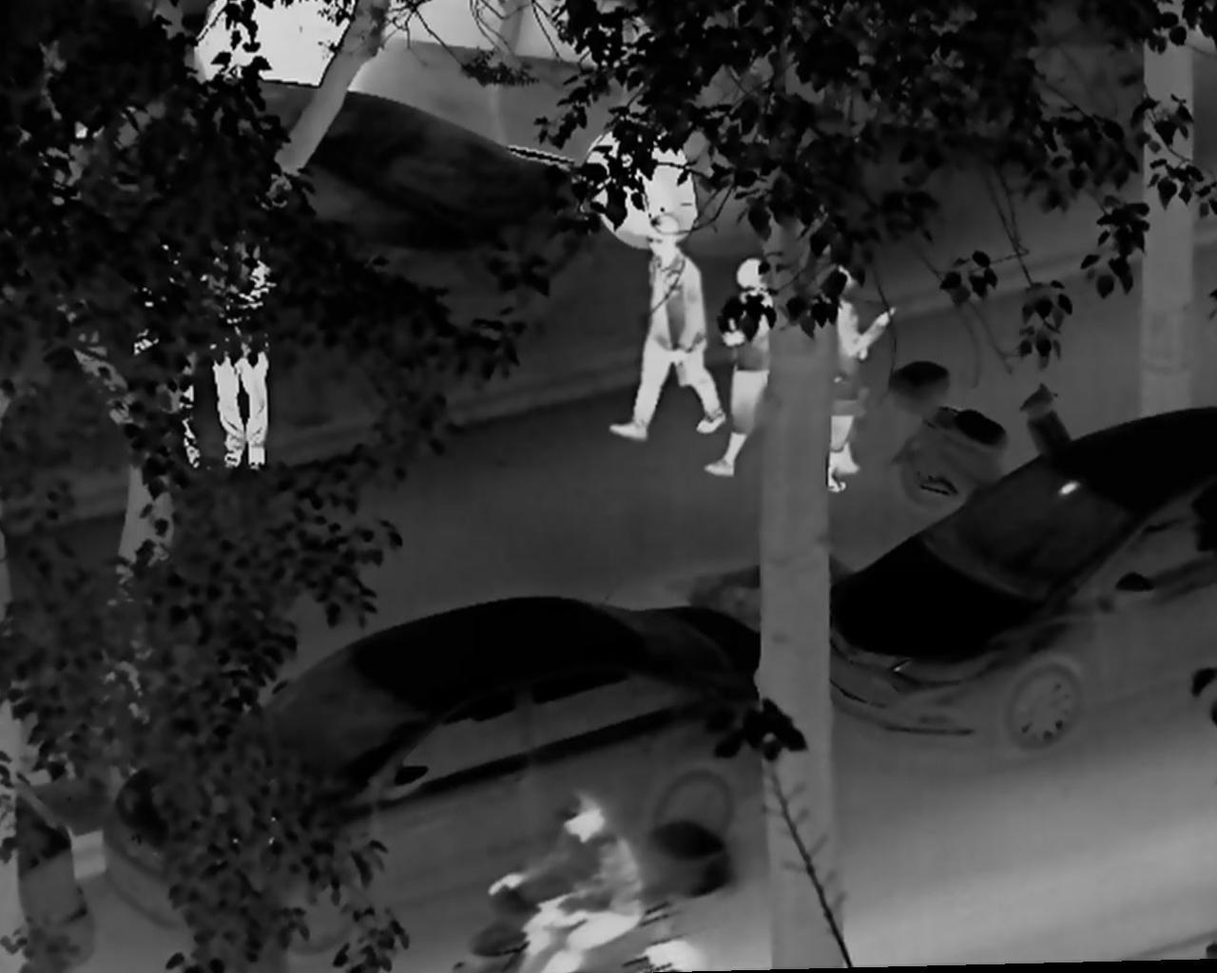person: (485, 792, 649, 973), (608, 207, 724, 445), (199, 210, 280, 471), (813, 259, 896, 495), (703, 241, 775, 480)
